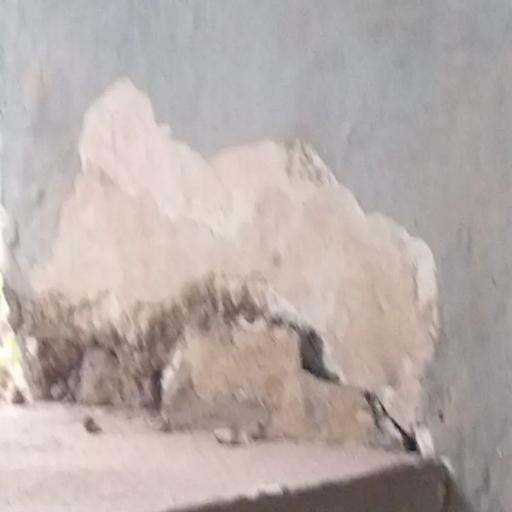spalling: (16, 80, 437, 490)
